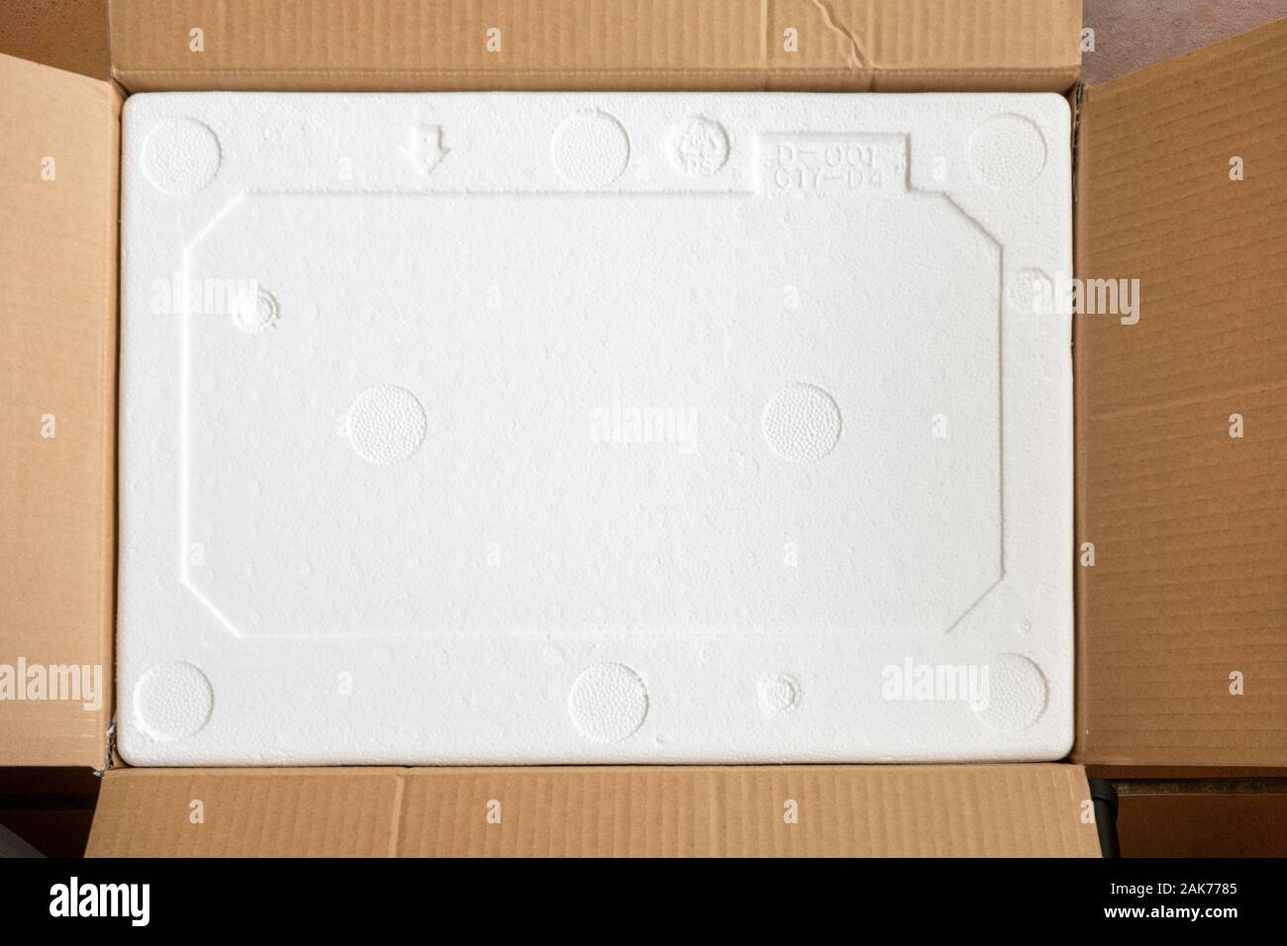泡沫箱: (117, 95, 1073, 765)
